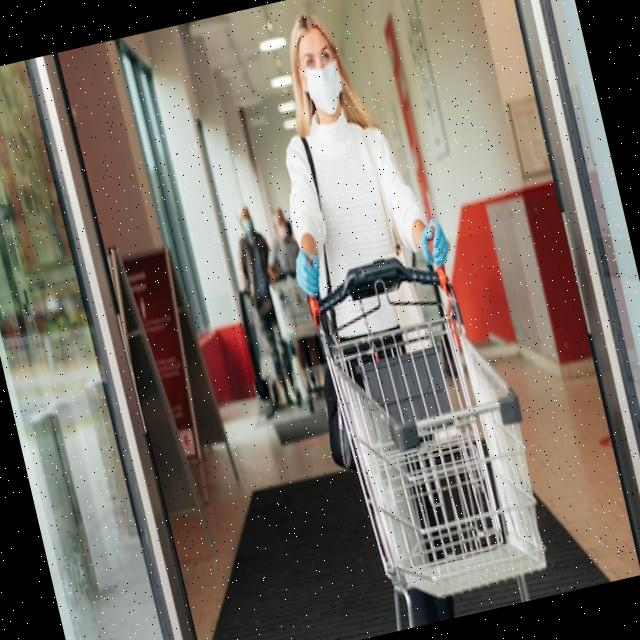Person: (239, 0, 453, 294)
